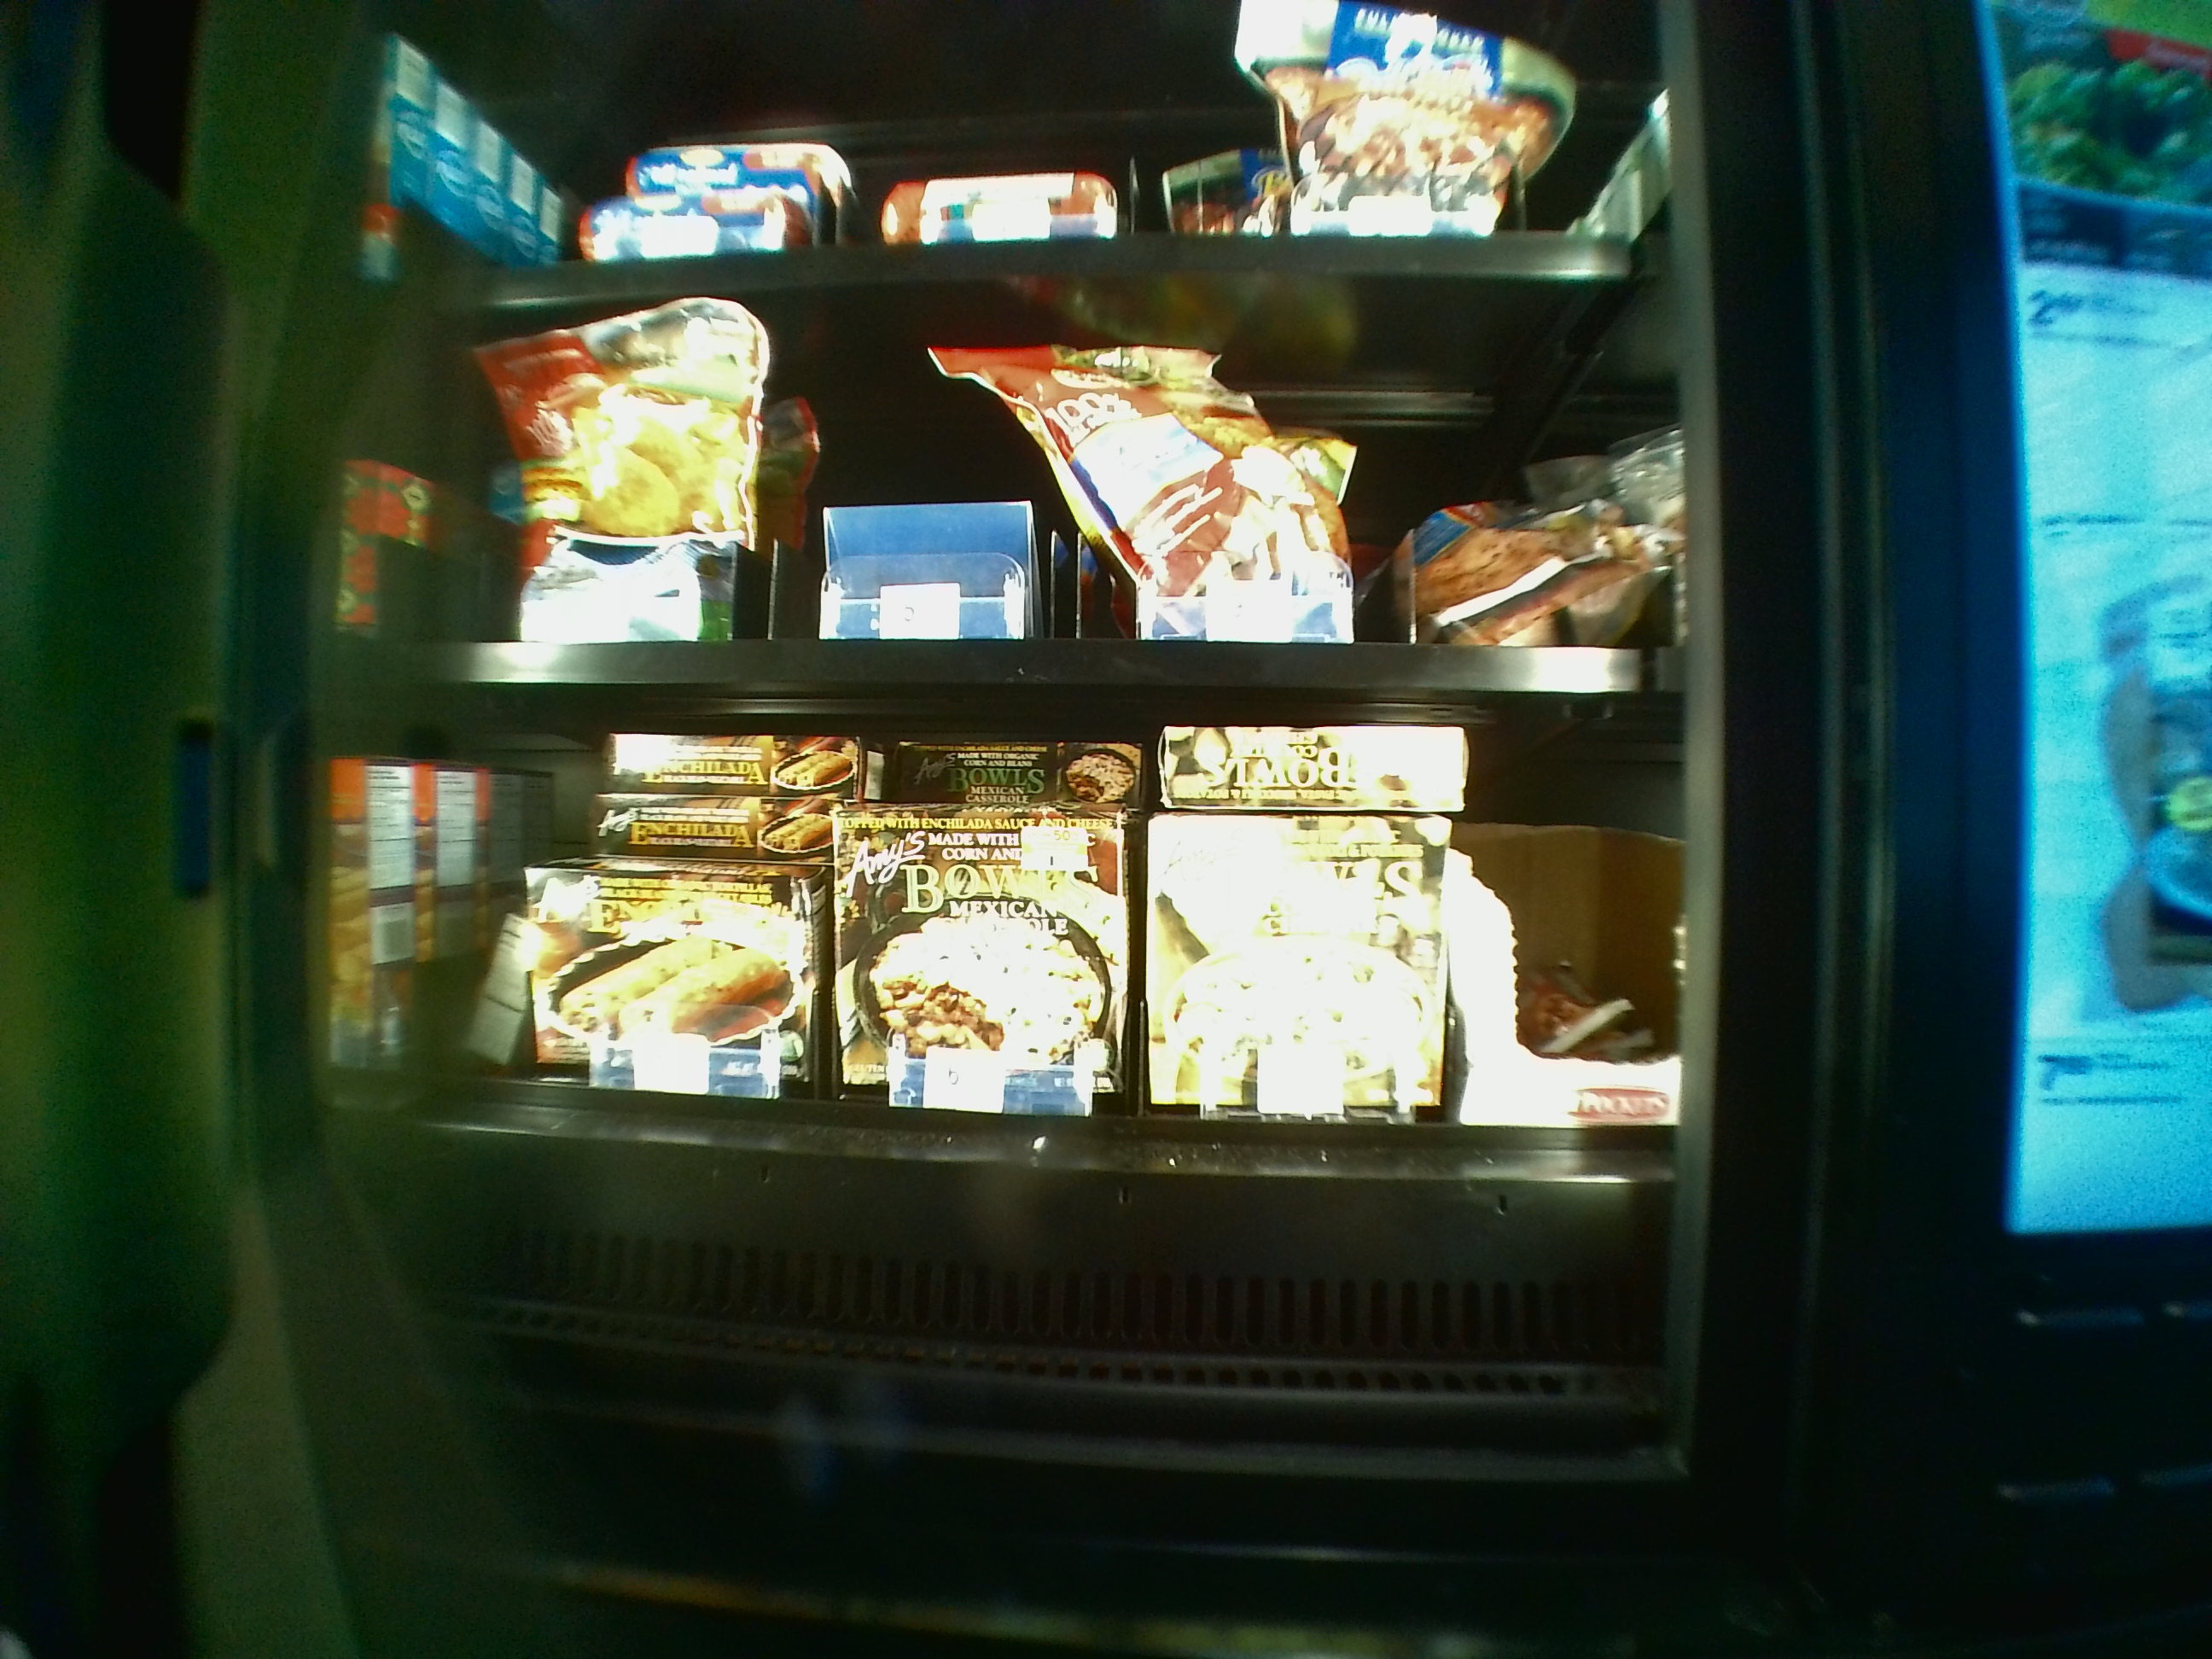shelf: (364, 711, 1674, 1373), (371, 279, 1674, 697)
